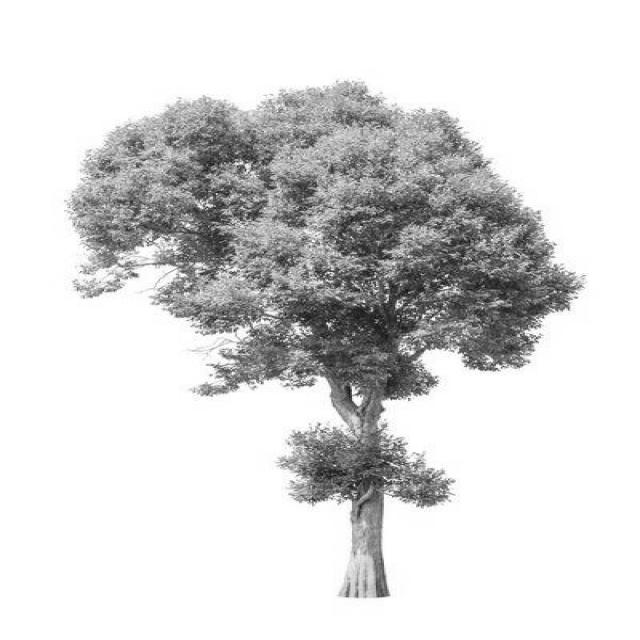Tree: (69, 82, 582, 599)
